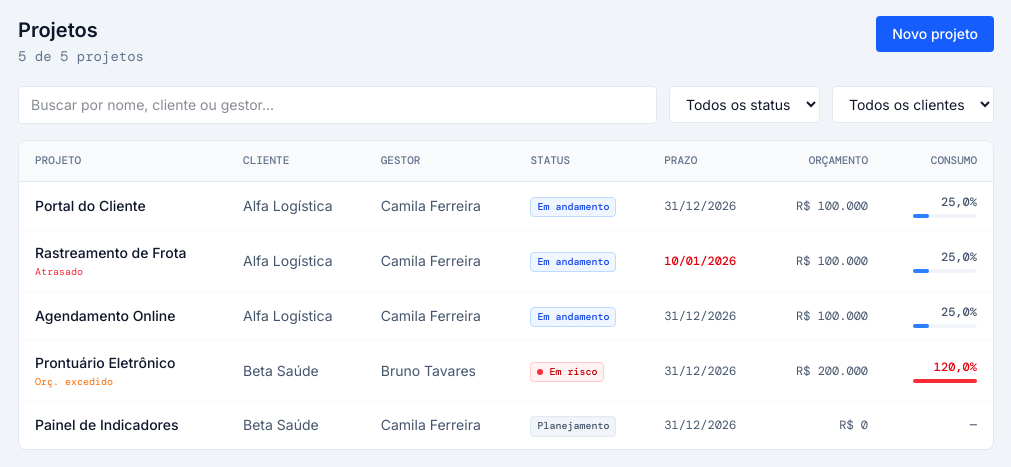
Test: ProjectsPage (RF04) › busca por nome do gestor
This screenshot has width=1011, height=467.
Expected: the link "Portal do Cliente" is shown, x1=35 y1=197 x2=146 y2=214
Type "bruno" into the search field named "Buscar projeto". click: {"x": 338, "y": 105}
box: x1=18 y1=86 x2=657 y2=124
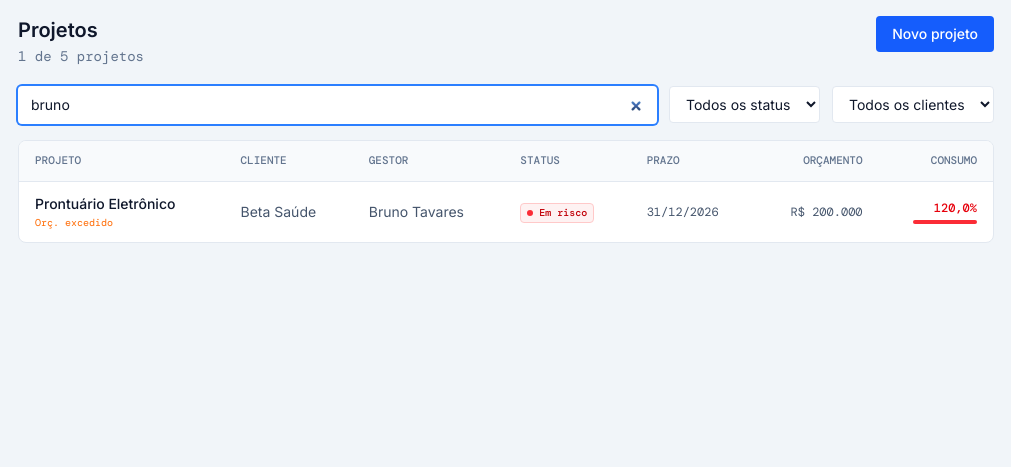
Expected: the link "Prontuário Eletrônico" is shown, x1=35 y1=195 x2=175 y2=212
Expected: the text "1 de 5 projetos" is shown, x1=18 y1=46 x2=144 y2=66
